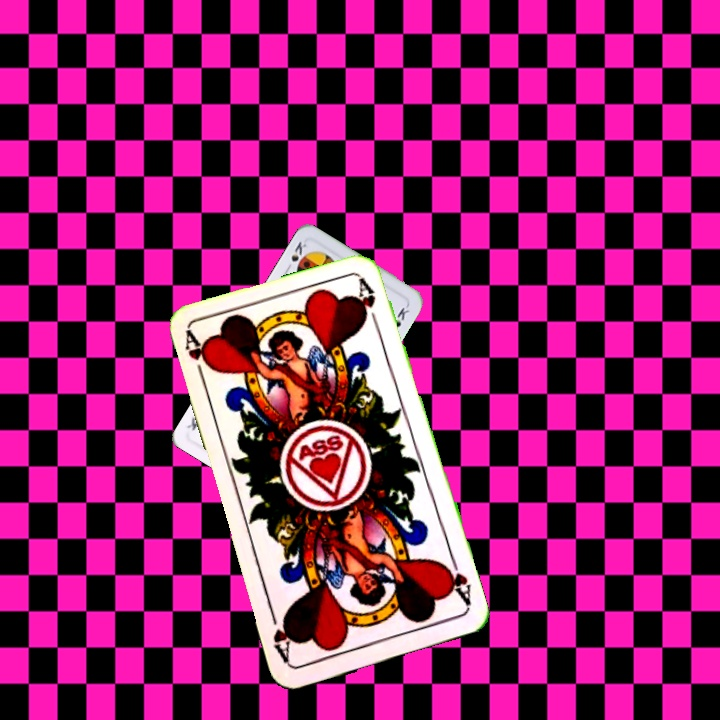HA: (438, 553, 474, 611), (180, 329, 215, 387)
SK: (282, 237, 311, 274)
